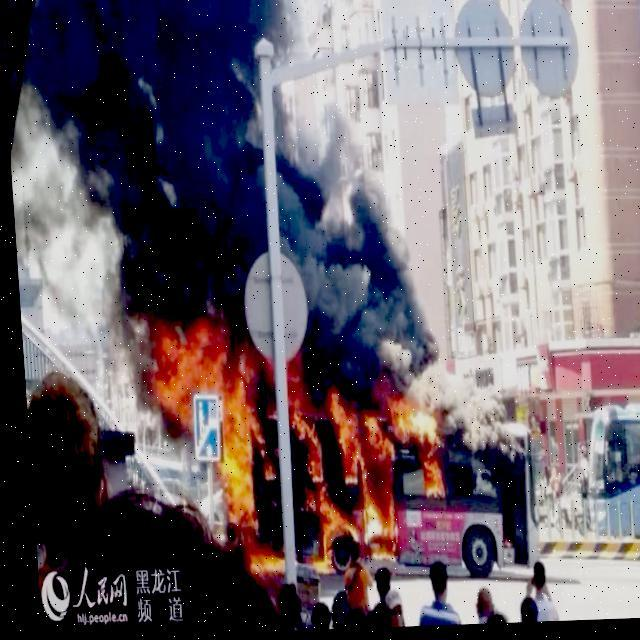Fire: (148, 297, 454, 577)
